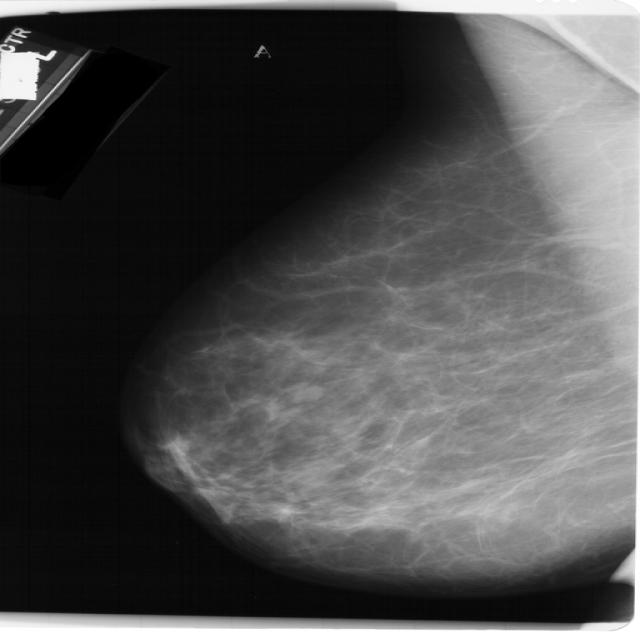tumour: (285, 380, 321, 402)
